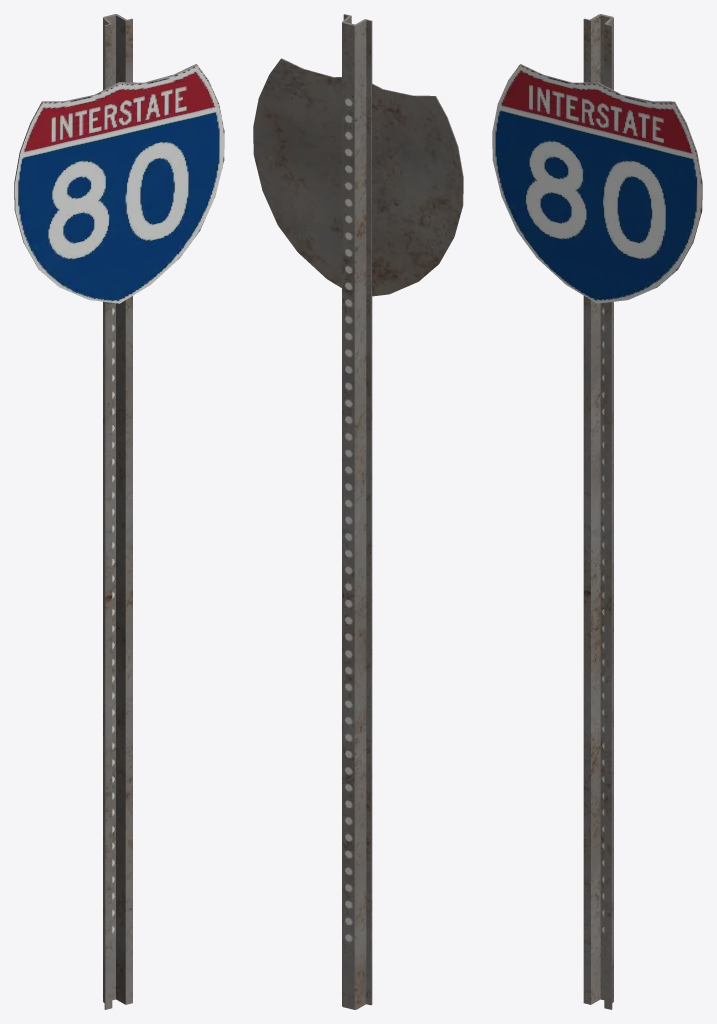
File: sign2.glb
3 views of the same model, side by side, from view 1: azimuth 30°, elevation 25°; view 2: azimuth 150°, elevation 25°; view 3: azimuth 330°, elevation 25° (orthographic).
Parts seen in each view (by area): view 1: Object_306; view 2: Object_306; view 3: Object_306.
Part boxes in pixels (x1=…): Object_306: x1=14, y1=14, x2=224, y2=1009; Object_306: x1=253, y1=14, x2=463, y2=1009; Object_306: x1=492, y1=14, x2=702, y2=1009.
Bounding box in the file's own units: 0.452 × 2.03 × 0.0383.
1 material, 1 textured.
